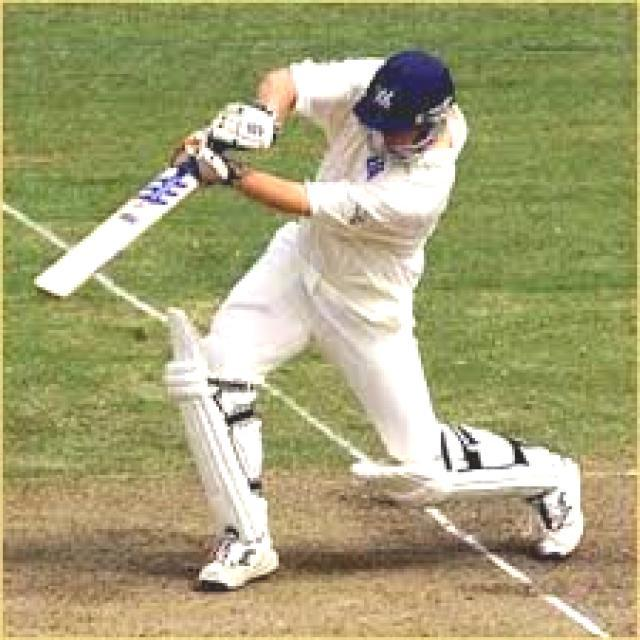bat: (26, 155, 201, 313)
toe: (29, 282, 73, 303)
